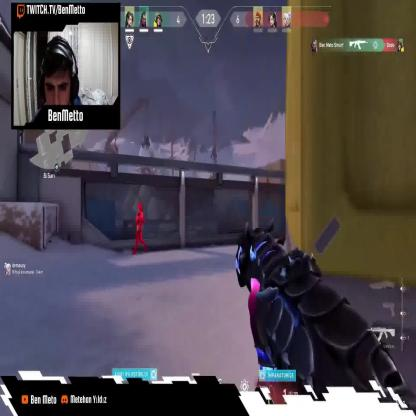enemy: (132, 203, 148, 255)
enemy_head: (138, 203, 142, 213)
